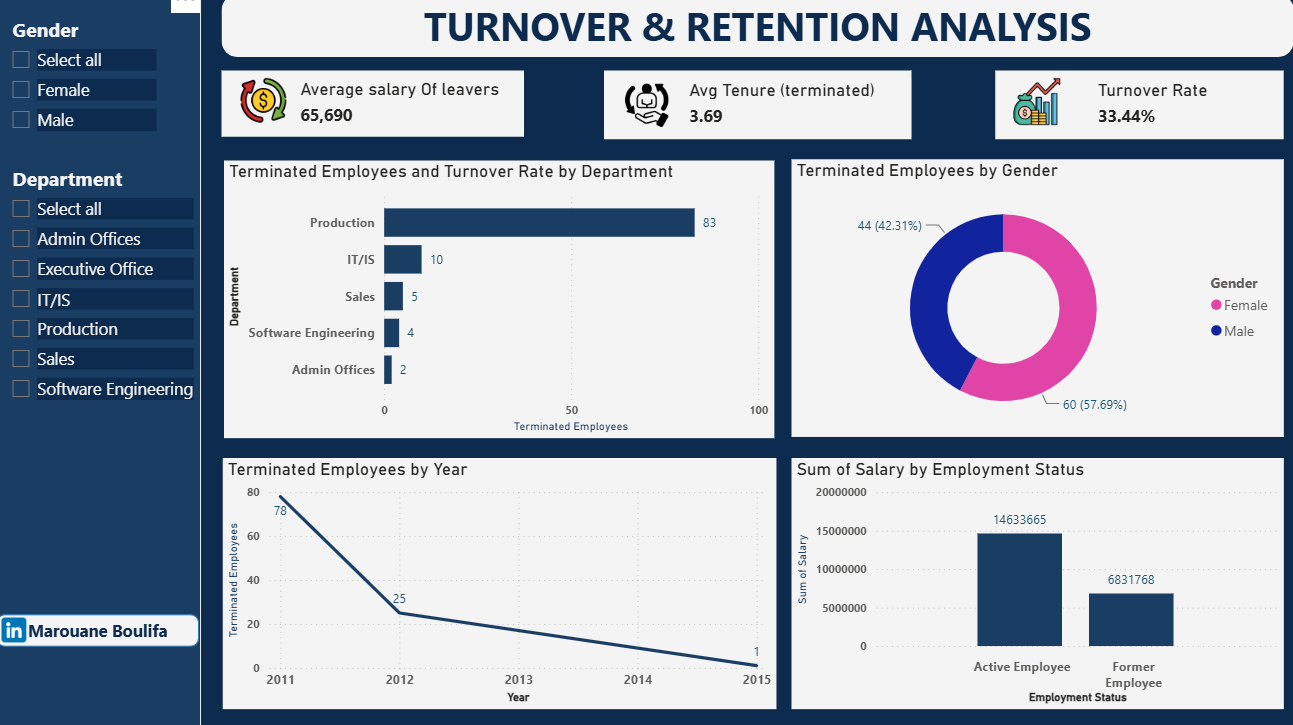

The dashboard page shown, as its layout file describes it:
{"tool":"powerbi","page":{"name":"TURNOVER & RETENTION ANALYSIS","canvas":[1280,720],"ordinal":1},"visuals":[{"type":"shape","box":[0,0,209.9,720.2],"z":0,"group":"g1"},{"type":"shape","box":[598.4,84.5,296.8,66.4],"z":0},{"type":"shape","box":[976,84.5,278.7,66.4],"z":1000},{"type":"slicer","fields":{"Values":["HRDataset_v14.Department"]},"box":[14.5,171.3,193,241.3],"z":1000,"group":"g1"},{"type":"slicer","fields":{"Values":["HRDataset_v14.Gender"]},"box":[14.5,27.7,156.8,142.4],"z":2000,"group":"g1"},{"type":"shape","box":[229.2,84.5,292,63.9],"z":2000},{"type":"multiRowCard","title":"Turnover Rate","fields":{"Values":["Calendar.Turnover Rate"]},"box":[1070.1,92.9,159.3,51.9],"z":3000},{"type":"multiRowCard","title":"Avg Tenure (terminated)","fields":{"Values":["Calendar.Avg Tenure (Terminated)"]},"box":[675.6,92.9,219.6,55.5],"z":4000},{"type":"multiRowCard","title":"Average salary Of leavers","fields":{"Values":["Calendar.Average Salary of Leavers"]},"box":[300.4,91.7,220.8,50.7],"z":5000},{"type":"barChart","fields":{"Category":["HRDataset_v14.Department"],"Y":["Calendar.Terminated Employees"]},"box":[231.6,171.3,530.8,267.8],"z":6000},{"type":"donutChart","fields":{"Y":["Calendar.Terminated Employees"],"Category":["HRDataset_v14.Gender"]},"box":[779.4,170.1,475.3,267.8],"z":7000},{"type":"lineChart","fields":{"Category":["Calendar.Year"],"Y":["Calendar.Terminated Employees"]},"box":[230.4,458.4,534.5,242.5],"z":8000},{"type":"columnChart","fields":{"Y":["Sum(HRDataset_v14.Salary)"],"Category":["HRDataset_v14.Employment Status"]},"box":[779.4,458.4,475.3,242.5],"z":9000},{"type":"shape","box":[228.8,11,1035,60.6],"z":10000},{"type":"group","id":"g1","title":"Slicer Pane","box":[0,0,209.9,720.2],"z":11000},{"type":"image","box":[238.9,84.5,61.5,57.9],"z":12000},{"type":"image","box":[609.3,91.7,60.3,53.1],"z":13000},{"type":"image","box":[986.9,86.9,57.9,55.5],"z":14000},{"type":"shape","box":[12.1,609.3,195.4,31.4],"z":15000},{"type":"image","box":[12.1,606.8,33.8,35],"z":16000}]}

Visuals, with their boxes in screenshot pixels (x1, y1, x2, y2), scaled from the page's 1280x720 canvas onto the 1293x725 screenshot:
shape: locate(0, 0, 212, 724)
shape: locate(604, 85, 904, 152)
shape: locate(986, 85, 1267, 152)
slicer - HRDataset_v14.Department: locate(15, 172, 210, 415)
slicer - HRDataset_v14.Gender: locate(15, 28, 173, 171)
shape: locate(232, 85, 526, 149)
"Turnover Rate" multiRowCard: locate(1081, 94, 1242, 146)
"Avg Tenure (terminated)" multiRowCard: locate(682, 94, 904, 149)
"Average salary Of leavers" multiRowCard: locate(303, 92, 526, 143)
barChart - HRDataset_v14.Department x Calendar.Terminated Employees: locate(234, 172, 770, 442)
donutChart - Calendar.Terminated Employees x HRDataset_v14.Gender: locate(787, 171, 1267, 441)
lineChart - Calendar.Year x Calendar.Terminated Employees: locate(233, 462, 773, 706)
columnChart - Sum(HRDataset_v14.Salary) x HRDataset_v14.Employment Status: locate(787, 462, 1267, 706)
shape: locate(231, 11, 1277, 72)
"Slicer Pane" group: locate(0, 0, 212, 724)
image: locate(241, 85, 303, 143)
image: locate(615, 92, 676, 146)
image: locate(997, 88, 1055, 143)
shape: locate(12, 614, 210, 645)
image: locate(12, 611, 46, 646)
